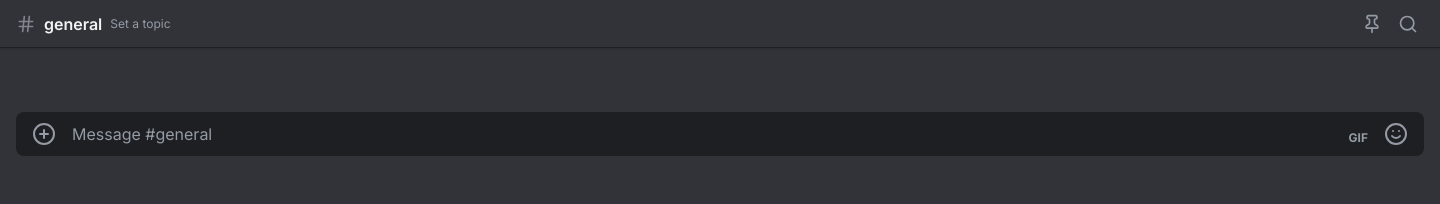
Test: ChatArea › toggles pinned messages panel
What coordinates should you click on to do the following:
click the button titled "Pinned Messages"
I would click on:
 (1372, 24)
Its box is [1356,8,1388,40].
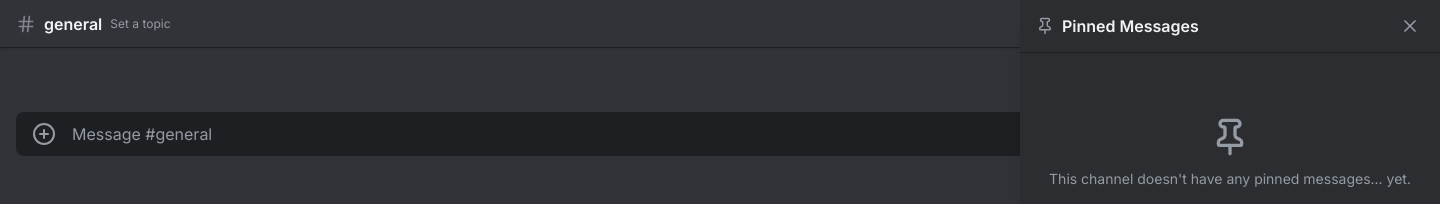
Check: the heading "Pinned Messages" is shown, box [1062,14,1199,38]
